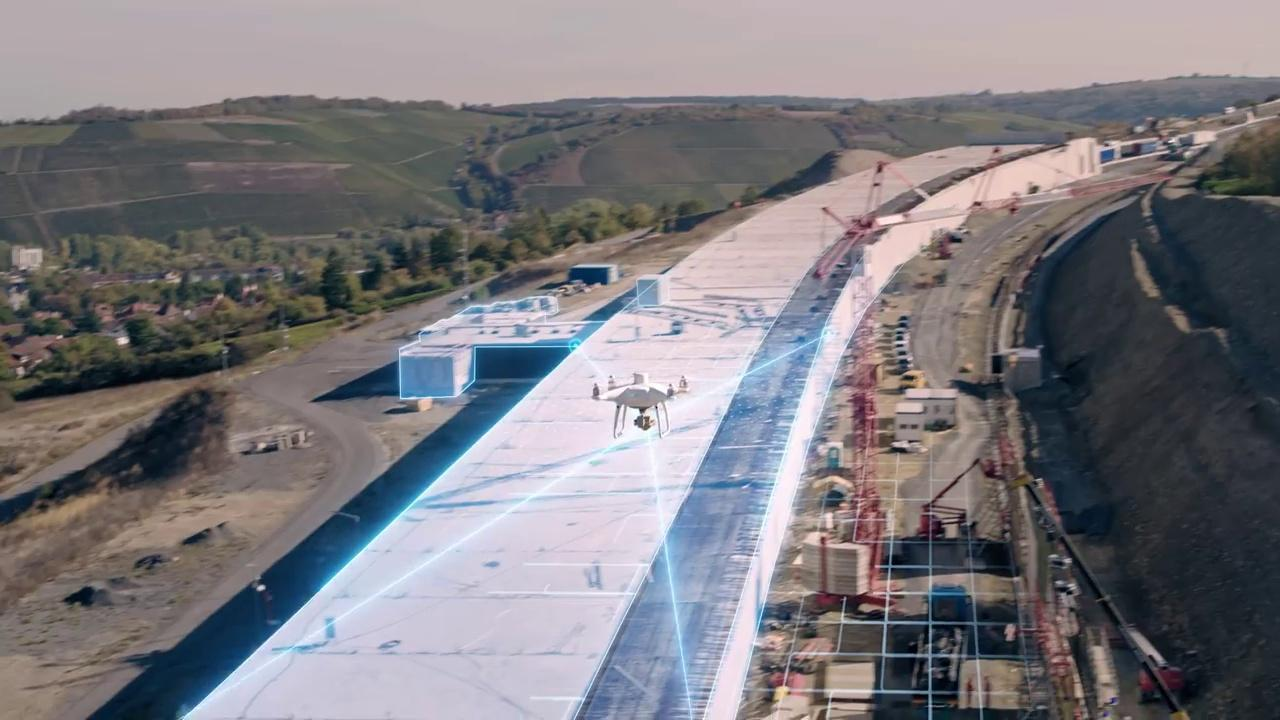drone: (590, 368, 690, 439)
